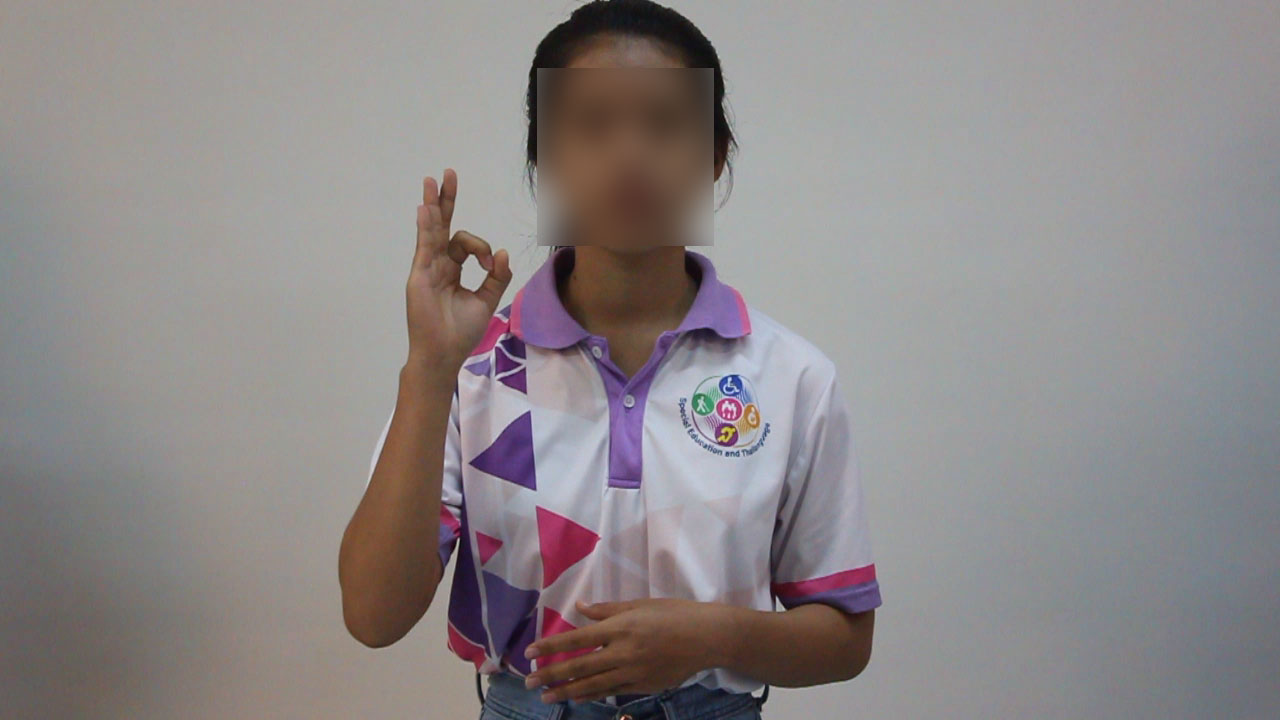for: (391, 158, 521, 377)
